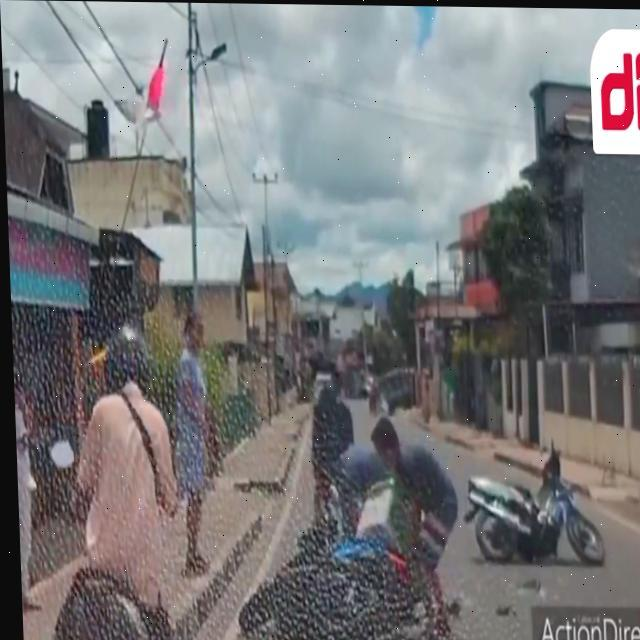multiple_accident: (260, 430, 603, 609)
